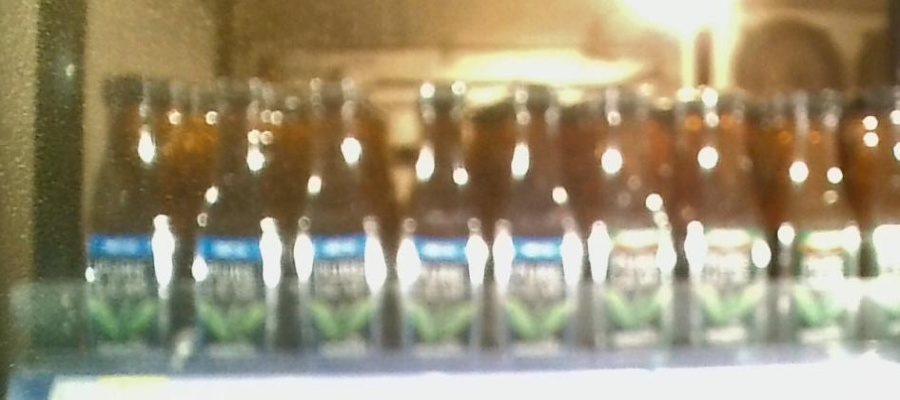bottle: (80, 69, 180, 361), (392, 77, 489, 367), (291, 71, 386, 367), (493, 78, 588, 370), (188, 74, 281, 367), (594, 84, 678, 365), (773, 81, 858, 354), (684, 83, 767, 352), (862, 83, 900, 345)
